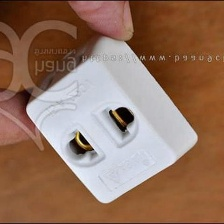three_eye_plug: (23, 27, 202, 206)
